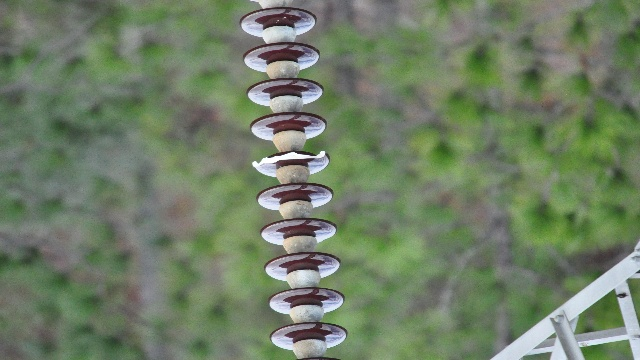broken_local: (250, 150, 328, 167)
insulator_unspecified: (239, 9, 349, 349)
